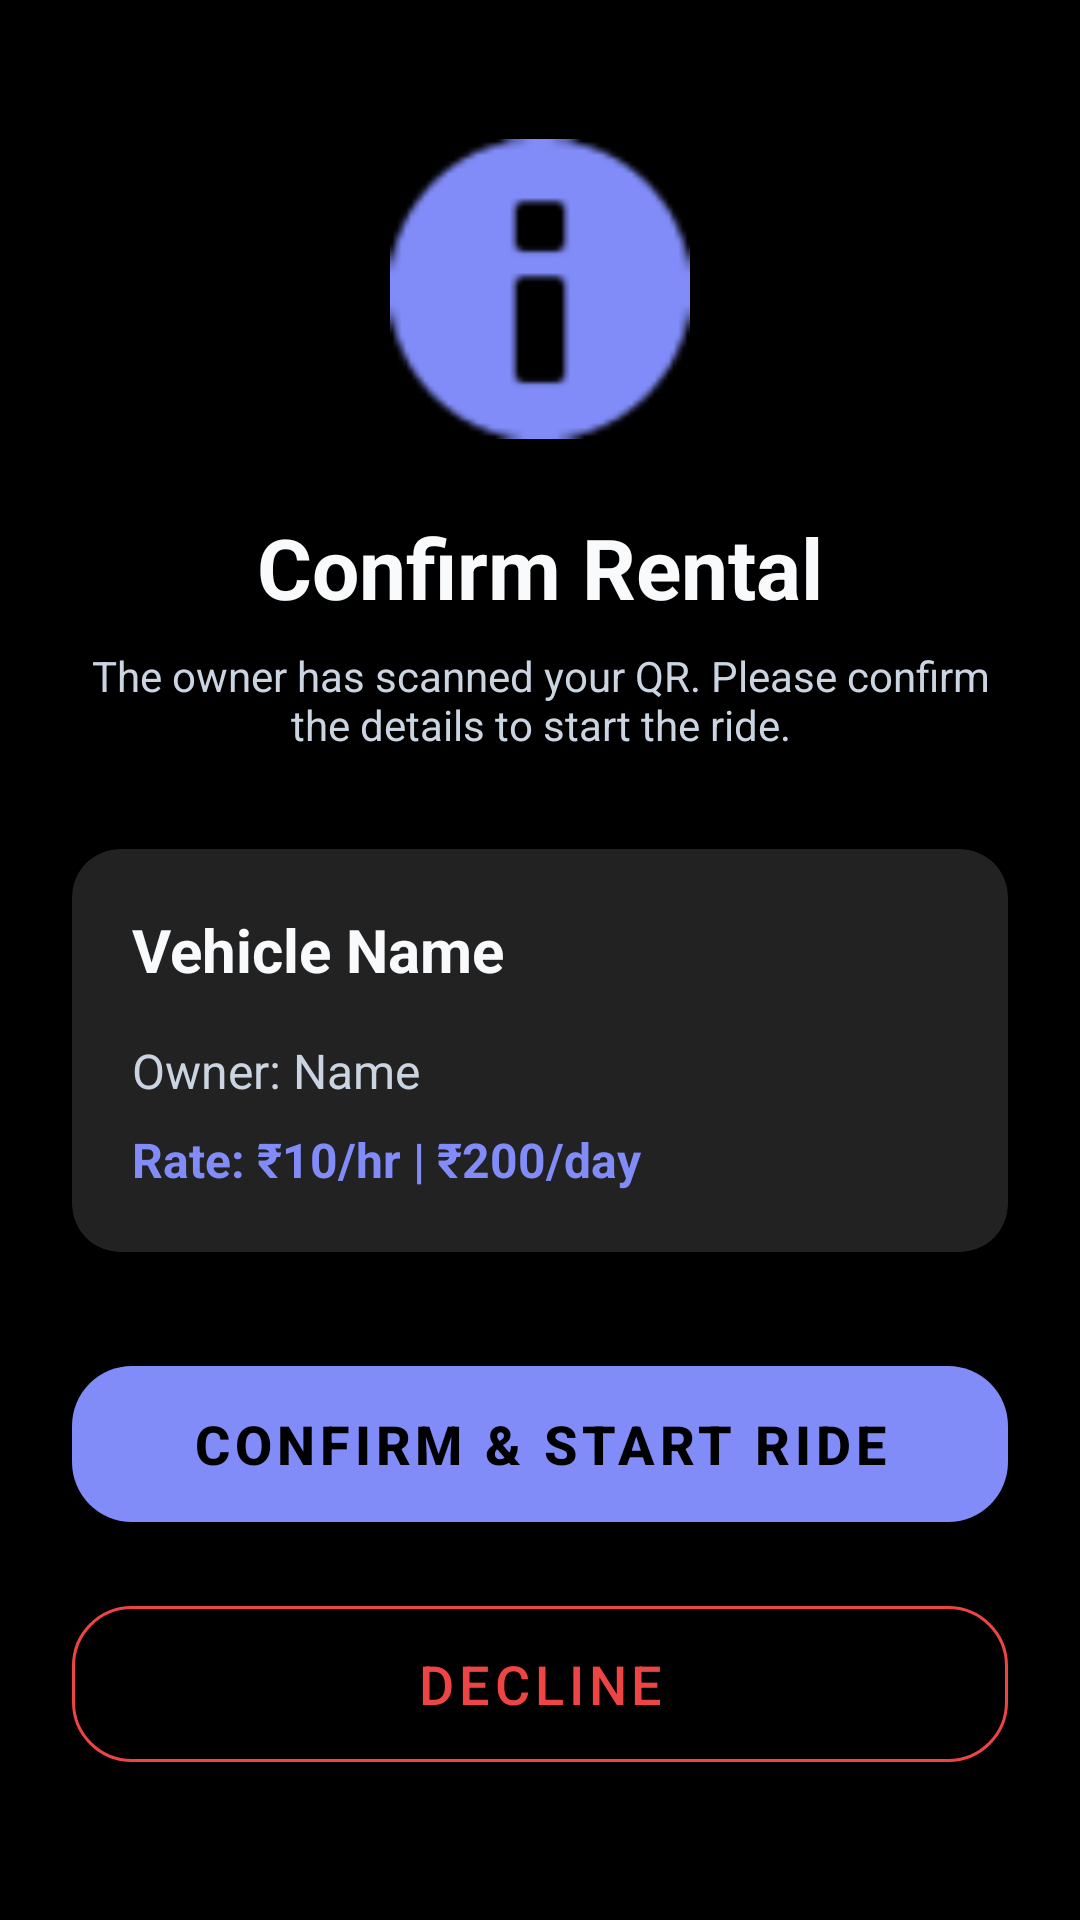

Where to tap for icons on this 1080*1920 app screen, as (x,y):
info: (540,289)
